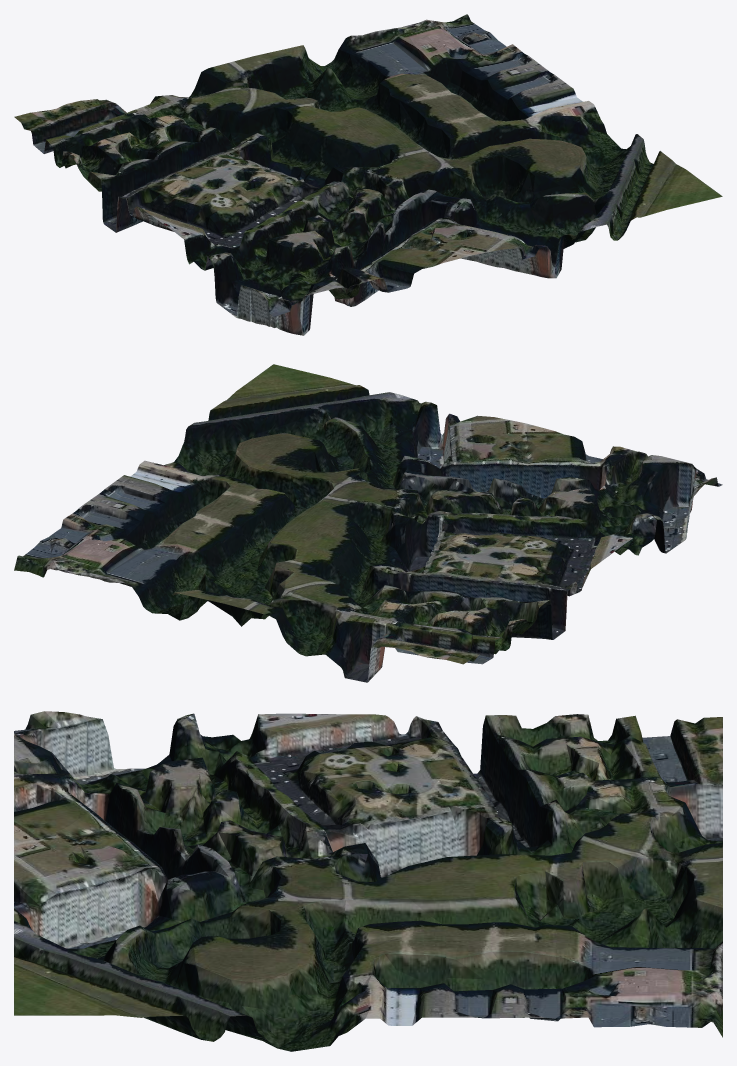
Rendered from map_13_2044_3447.dae.
3 renders of one model, top to bottom at view 1: azimuth 30°, elevation 25°; view 2: azimuth 150°, elevation 25°; view 3: azimuth 270°, elevation 25°, orthographic. The views are drawn at different scales.
Parts seen in each view (by area): view 1: Ter0; view 2: Ter0; view 3: Ter0.
Part boxes in pixels (<box>): Ter0: <box>14,14,722,335</box>; Ter0: <box>14,364,722,682</box>; Ter0: <box>14,711,722,1051</box>.
Bounding box in the file's own units: 256 × 256 × 26.62.
4 materials, 4 textured.
